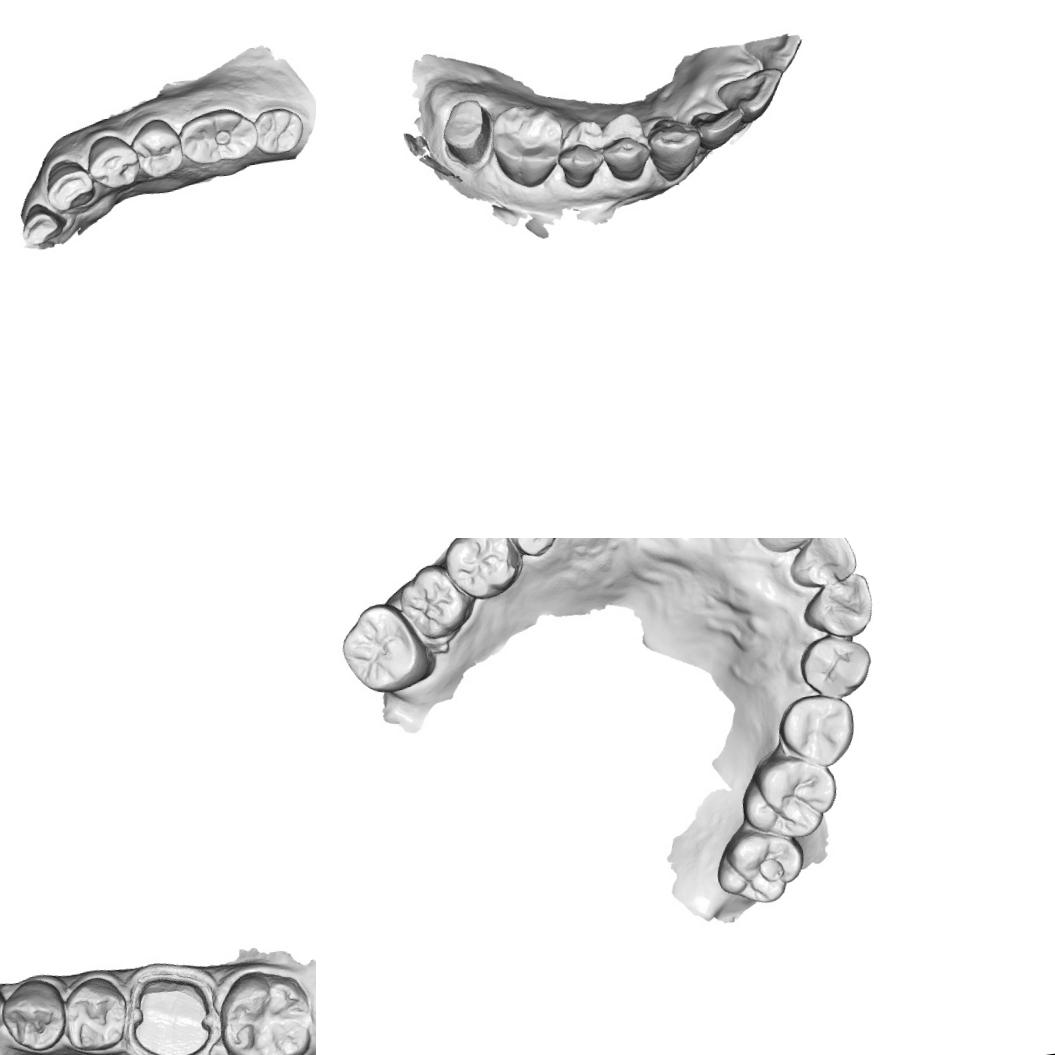canine: (798, 570, 878, 644), (642, 112, 706, 184), (40, 154, 99, 216)
crown: (124, 968, 219, 1055), (437, 94, 494, 170)
incisor: (712, 65, 791, 128), (739, 30, 809, 79), (797, 538, 860, 586), (15, 198, 69, 252), (690, 105, 750, 152)
molar: (733, 748, 844, 849), (334, 596, 435, 699), (211, 963, 316, 1055), (709, 820, 810, 912), (484, 98, 568, 192), (393, 559, 478, 645), (175, 102, 263, 168), (438, 538, 524, 605), (252, 104, 307, 158)
premolar: (773, 688, 859, 771), (57, 973, 133, 1055), (796, 631, 878, 706), (0, 974, 71, 1055), (550, 115, 614, 191), (596, 108, 652, 186), (126, 116, 186, 182), (82, 130, 144, 192), (494, 538, 569, 566)
